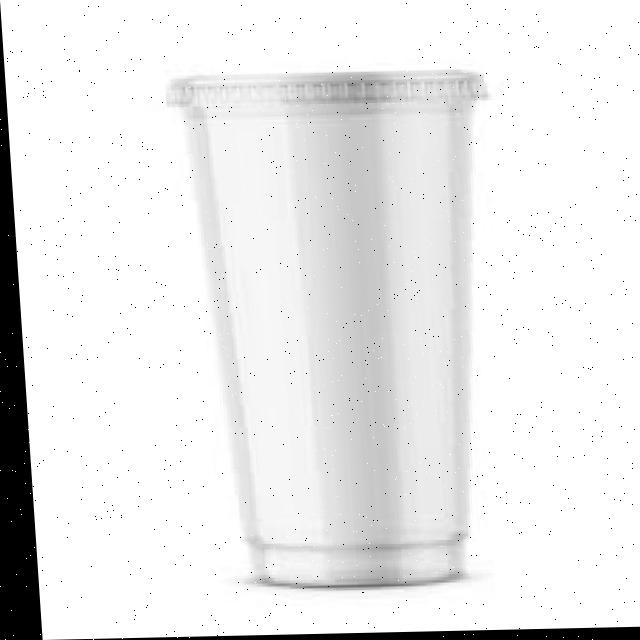cup: (155, 46, 529, 603)
